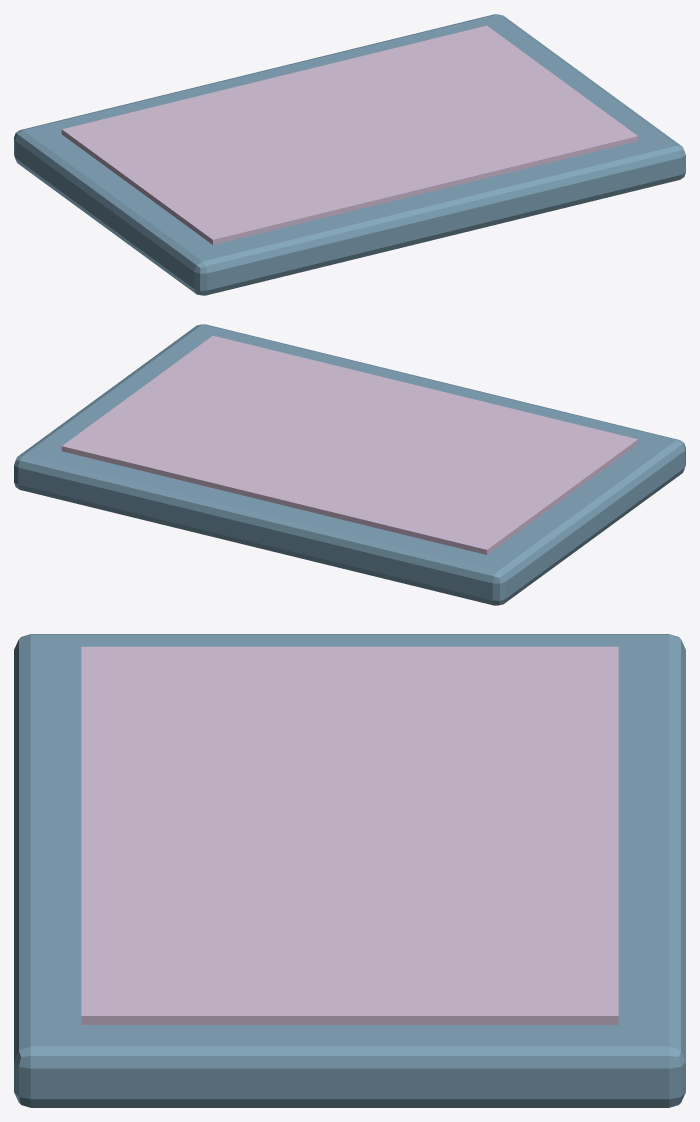
The model's file is hh_bath_mat.glb.
3 views of the same model, one above another, from view 1: azimuth 30°, elevation 25°; view 2: azimuth 150°, elevation 25°; view 3: azimuth 270°, elevation 25° (orthographic). The views are drawn at different scales.
Parts seen in each view (by area): view 1: pattern, mat; view 2: pattern, mat; view 3: pattern, mat.
Boxes of the visible parts, left/top/right/bottom form: pattern: left=61, top=25, right=638, bottom=244; mat: left=14, top=14, right=685, bottom=295; pattern: left=61, top=335, right=638, bottom=554; mat: left=14, top=324, right=685, bottom=605; pattern: left=81, top=646, right=618, bottom=1024; mat: left=14, top=634, right=685, bottom=1107.
Size of the model in its own units: 0.6 by 0.046 by 0.4.
